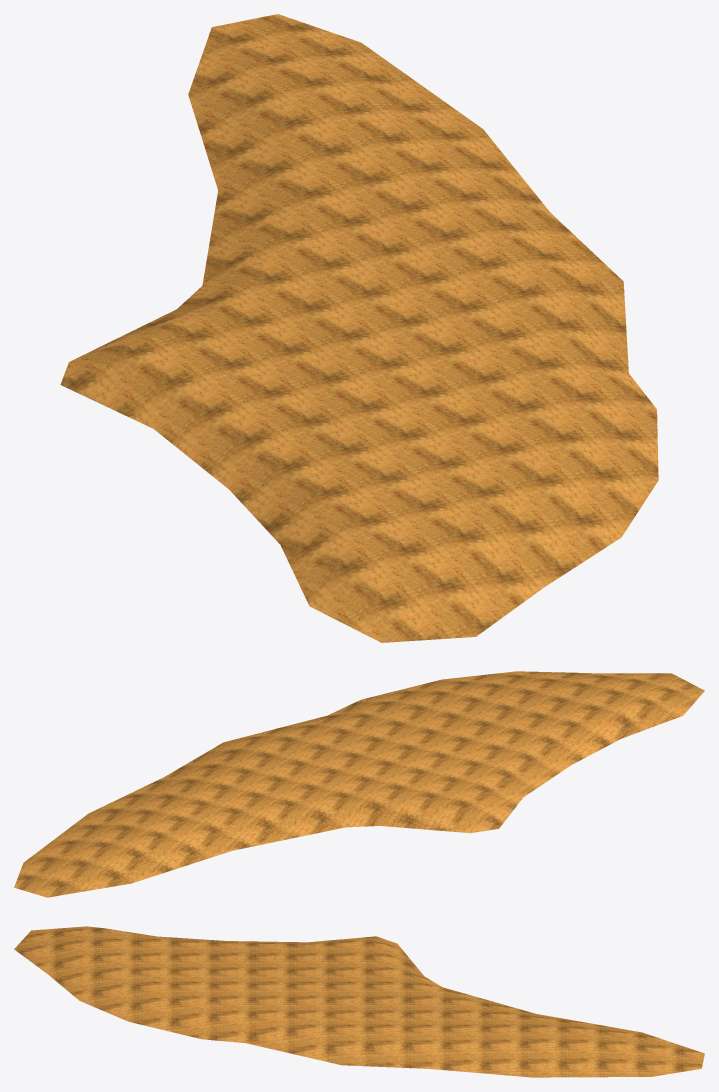
3 views of the same model, one above another, from view 1: azimuth 30°, elevation 25°; view 2: azimuth 150°, elevation 25°; view 3: azimuth 270°, elevation 25° (orthographic). The views are drawn at different scales.
Parts seen in each view (by area): view 1: base2; view 2: base2; view 3: base2.
Part boxes in pixels (x1,y1,x2,y2): base2: (60,14,658,642); base2: (14,671,704,897); base2: (14,926,704,1077).
Bounding box in the file's own units: 163414 × 5672 × 315733.
1 material, 1 textured.
